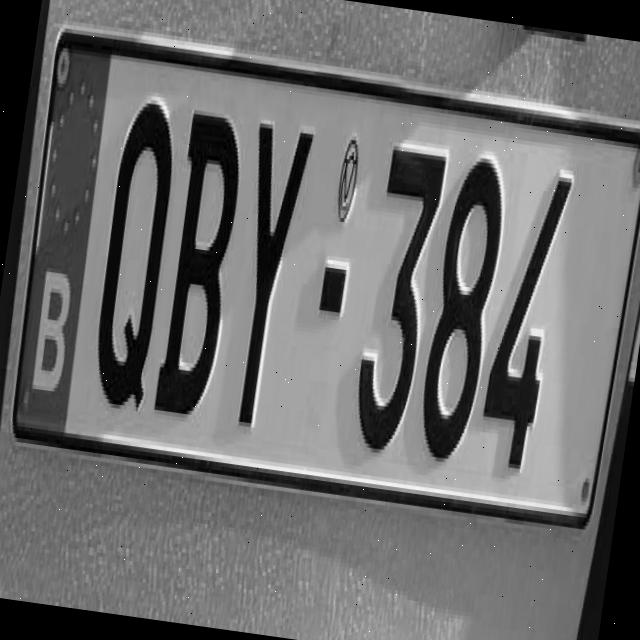Belgique: (13, 46, 116, 439)
EU: (10, 50, 640, 539)
